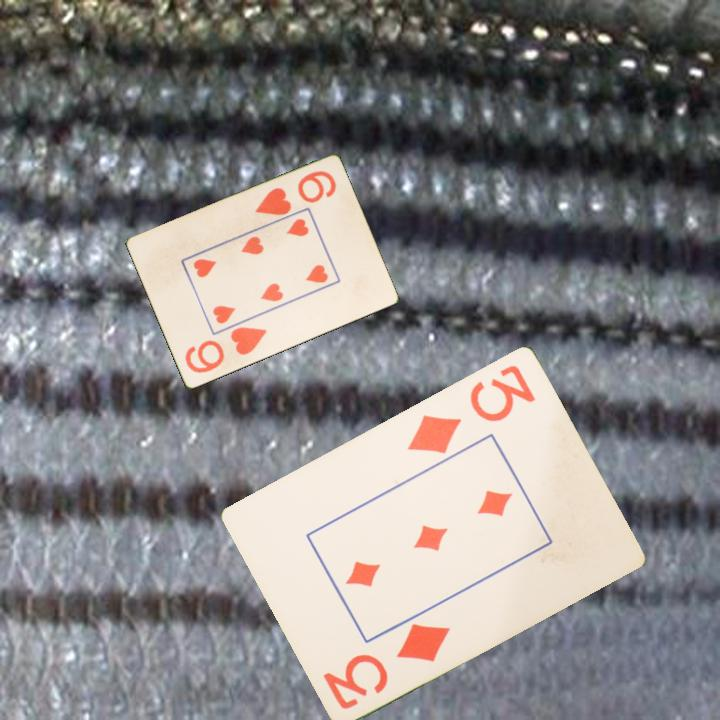3d: (404, 360, 539, 457), (319, 619, 454, 712)
6h: (181, 324, 270, 377), (251, 167, 339, 220)
